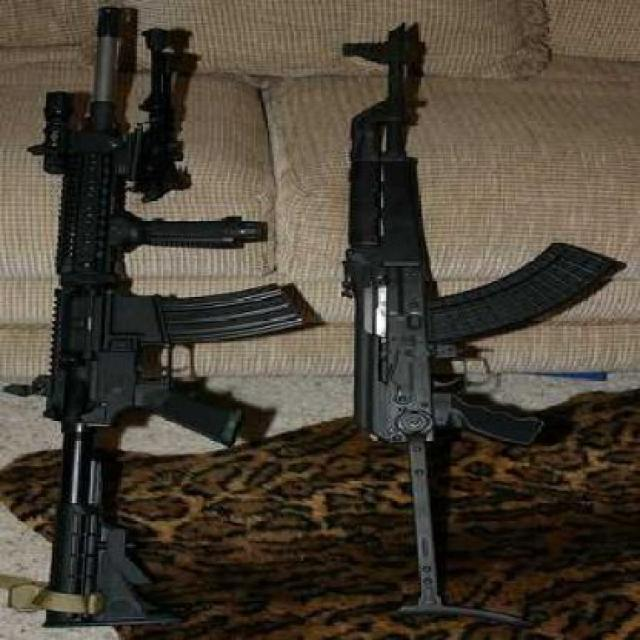weapon: (337, 26, 622, 640), (41, 7, 313, 626)
